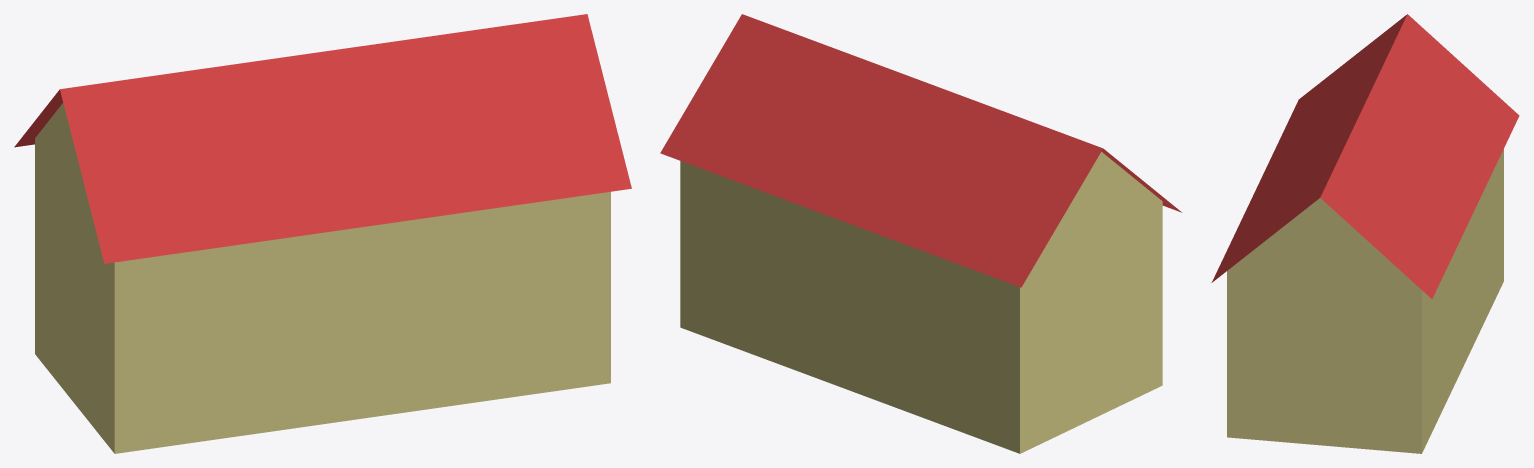
3 views of the same model, side by side, from view 1: azimuth 30°, elevation 25°; view 2: azimuth 150°, elevation 25°; view 3: azimuth 270°, elevation 25° (orthographic). The views are drawn at different scales.
Bounding box in the file's own units: 27.38 × 17.6 × 15.96.
